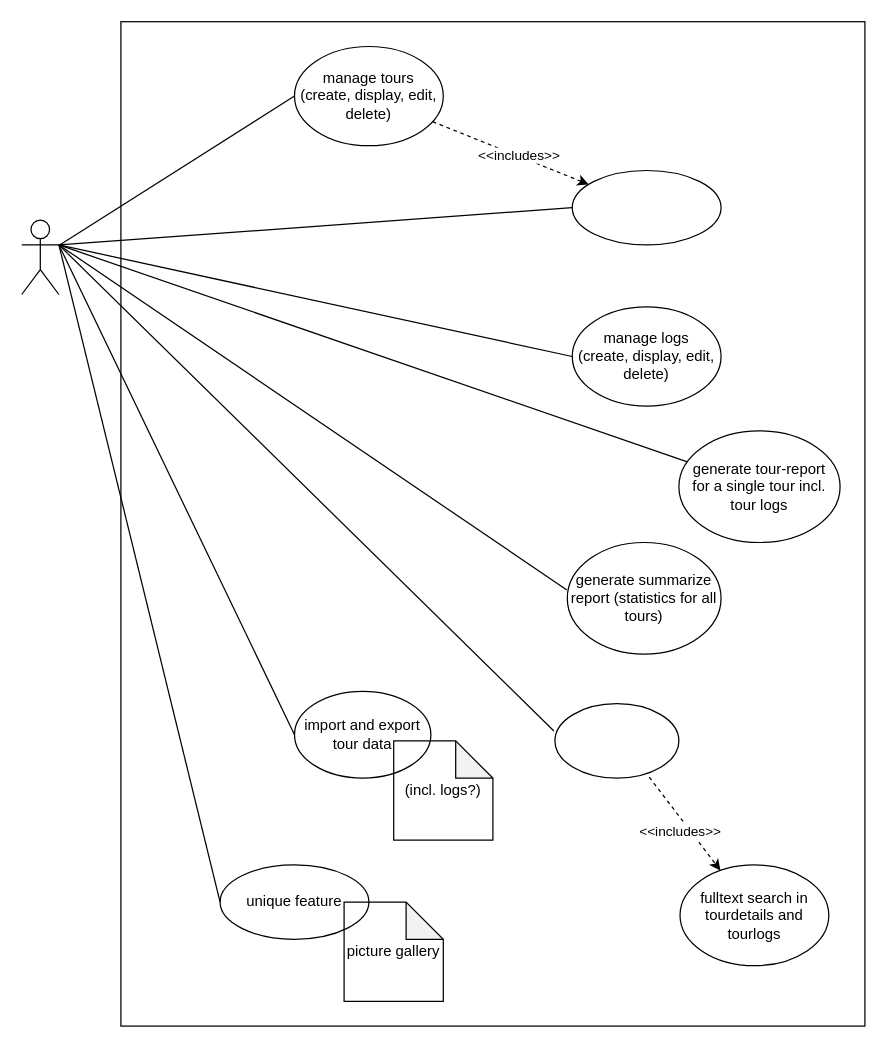
Some shapes in this 887 by 1048 pixel diagram are drawn without their labels. The box of each missing label's shape, as (x1, y1, x2, y2) in pixels:
access tour details: (571, 169, 721, 245)
search tour: (554, 702, 679, 778)
User: (20, 219, 59, 294)
